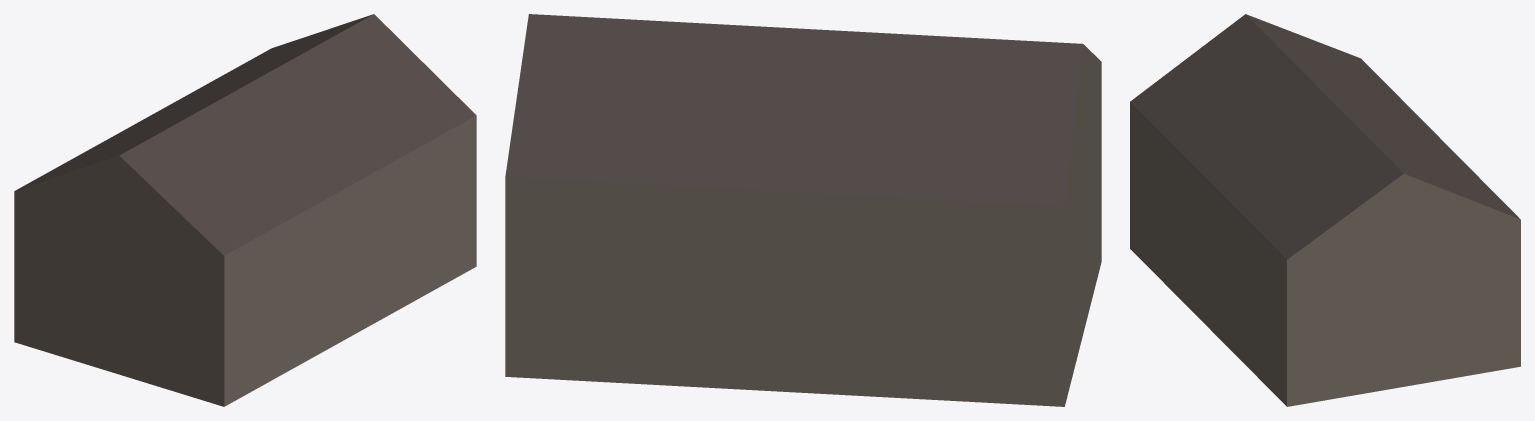
3 renders of one model, left to right at view 1: azimuth 30°, elevation 25°; view 2: azimuth 150°, elevation 25°; view 3: azimuth 270°, elevation 25°, orthographic. The views are drawn at different scales.
Visible parts, largest first — view 1: HP-w1200769510; view 2: HP-w1200769510; view 3: HP-w1200769510.
Part boxes in pixels (x1,y1,x2,y2): HP-w1200769510: (14, 14, 476, 406); HP-w1200769510: (505, 14, 1101, 406); HP-w1200769510: (1130, 14, 1520, 406).
Bounding box in the file's own units: 17.63 × 8.7 × 14.46.
